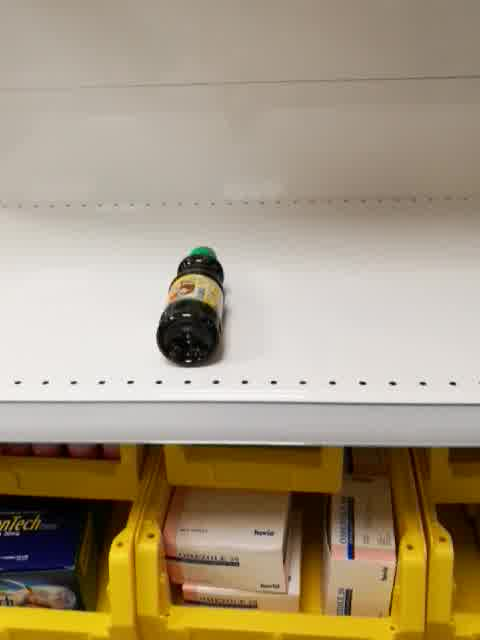cookingoil: (154, 244, 226, 368)
